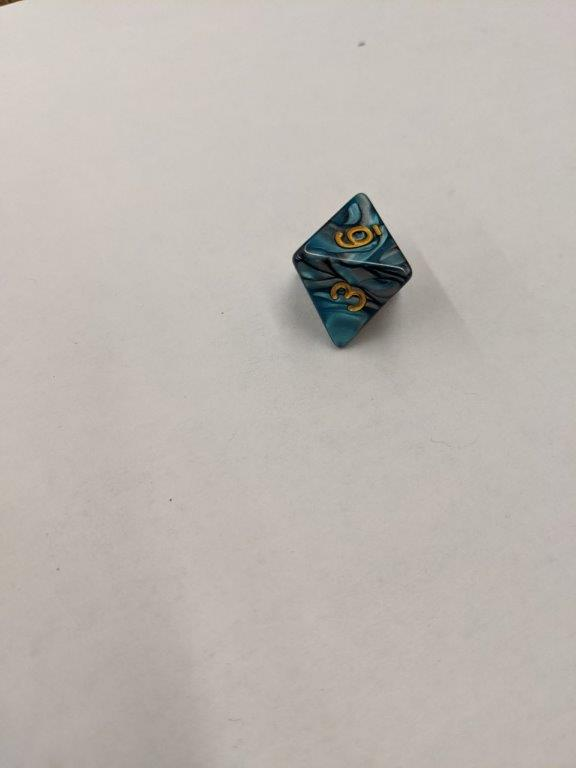d8-6: (292, 192, 414, 348)
